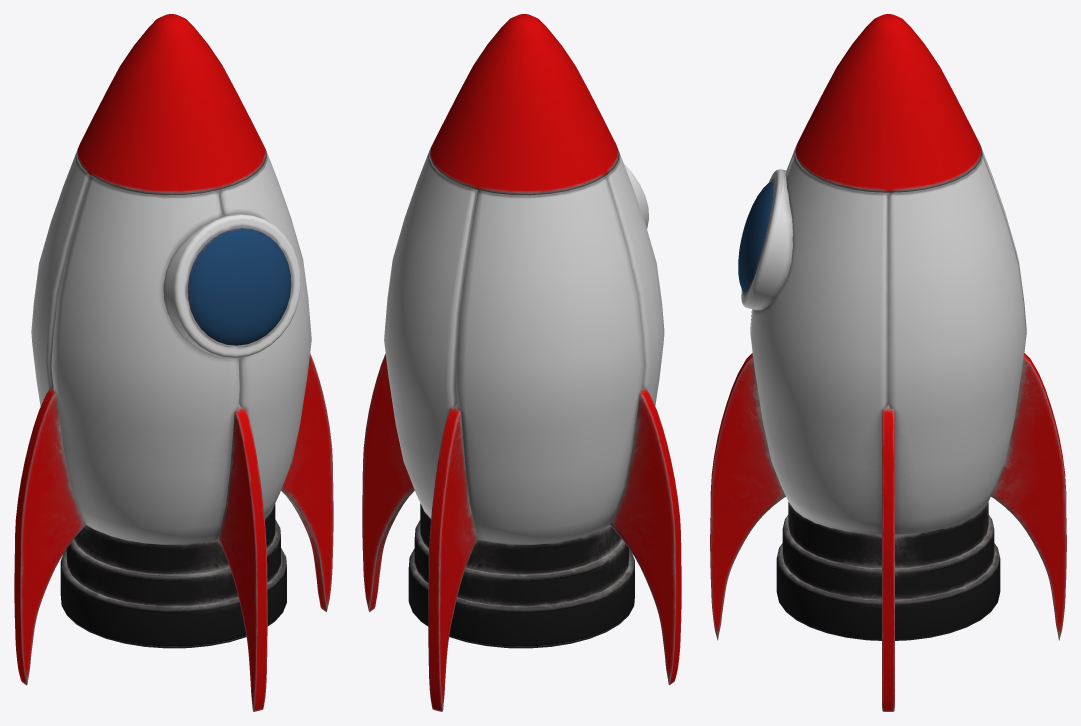
File: ToyRocket.obj
3 renders of one model, left to right at view 1: azimuth 30°, elevation 25°; view 2: azimuth 150°, elevation 25°; view 3: azimuth 270°, elevation 25°, orthographic.
Visible parts, largest first — view 1: Body_Cylinder.002, Wings_Cube.003, Tip_Cylinder.003, Engine_Cylinder.006, Window.001_Cylinder.008, Window_Cylinder.007; view 2: Body_Cylinder.002, Wings_Cube.003, Tip_Cylinder.003, Engine_Cylinder.006; view 3: Body_Cylinder.002, Wings_Cube.003, Tip_Cylinder.003, Engine_Cylinder.006, Window_Cylinder.007, Window.001_Cylinder.008.
Part boxes in pixels (<box>): Body_Cylinder.002: <box>31,150,311,544</box>; Wings_Cube.003: <box>14,354,333,711</box>; Tip_Cylinder.003: <box>76,14,266,195</box>; Engine_Cylinder.006: <box>60,504,286,648</box>; Window.001_Cylinder.008: <box>187,228,291,345</box>; Window_Cylinder.007: <box>163,213,300,358</box>; Body_Cylinder.002: <box>384,150,664,544</box>; Wings_Cube.003: <box>362,354,681,711</box>; Tip_Cylinder.003: <box>429,14,619,195</box>; Engine_Cylinder.006: <box>408,503,634,648</box>; Body_Cylinder.002: <box>750,147,1026,534</box>; Wings_Cube.003: <box>710,353,1066,711</box>; Tip_Cylinder.003: <box>794,14,982,192</box>; Engine_Cylinder.006: <box>776,502,1000,640</box>; Window_Cylinder.007: <box>741,169,792,310</box>; Window.001_Cylinder.008: <box>738,181,774,293</box>.
Size of the model in its own units: 1.63 by 3.12 by 1.63.
1 material, 1 textured.
